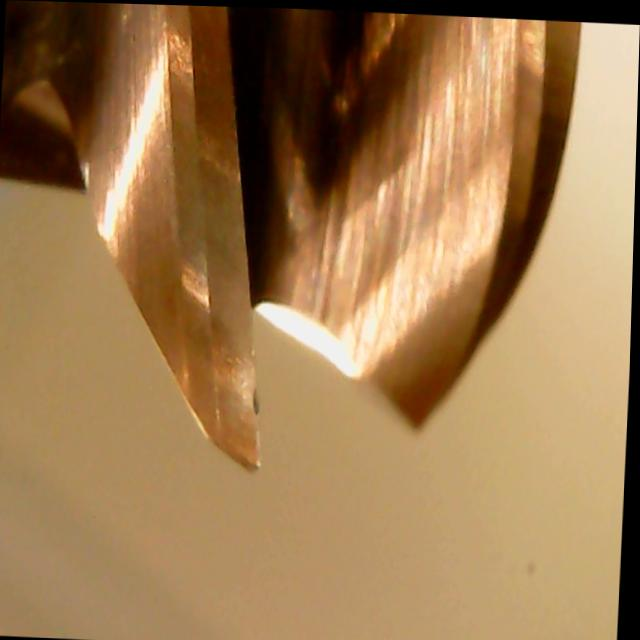Tool-wear-class-0: (176, 214, 295, 477)
